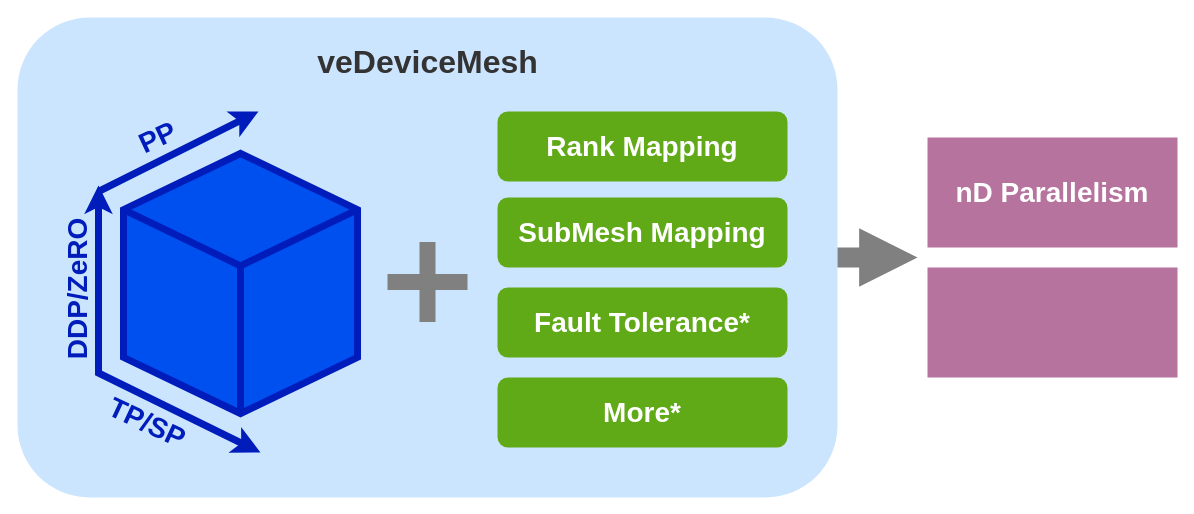
Image size: 1194x514. Some labels were removed from this diagram. Each missing label, with the box of its shape:
Checkpoint: (927, 267, 1177, 377)
PyTorch DeviceMesh: (120, 150, 360, 416)
